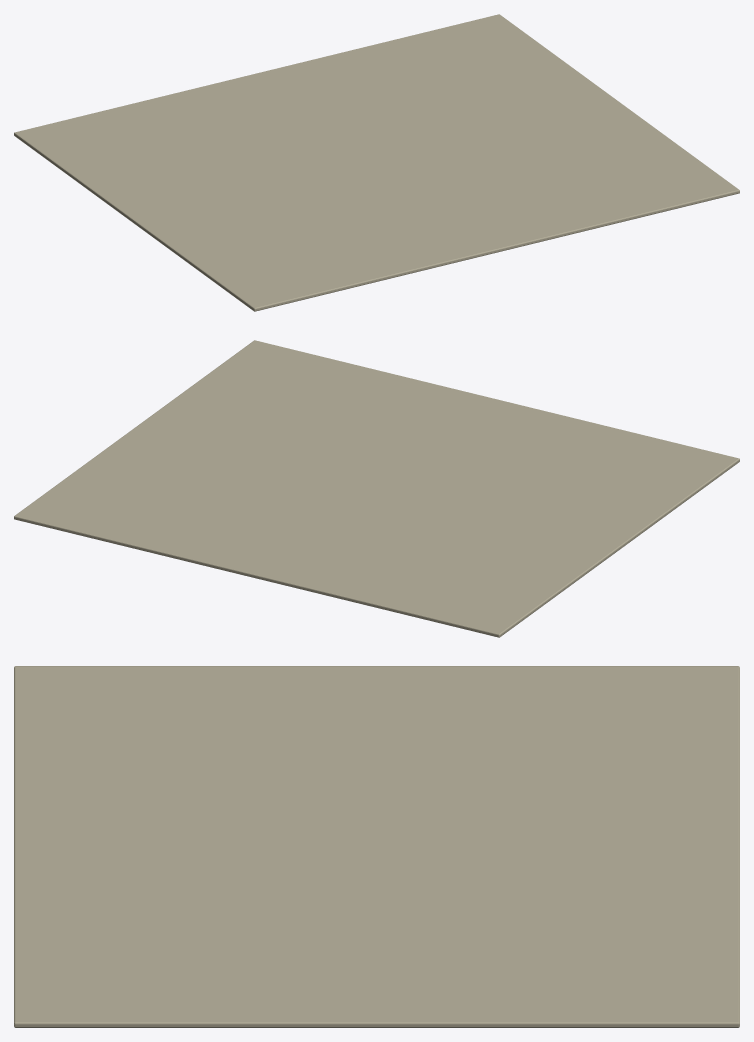
File: presentation_stage.glb
3 views of the same model, one above another, from view 1: azimuth 30°, elevation 25°; view 2: azimuth 150°, elevation 25°; view 3: azimuth 270°, elevation 25° (orthographic). The views are drawn at different scales.
Parts seen in each view (by area): view 1: ThinCutStonePlinth; view 2: ThinCutStonePlinth; view 3: ThinCutStonePlinth.
Part boxes in pixels (box(x1,y1,x2,y2)): ThinCutStonePlinth: box(14, 14, 739, 311); ThinCutStonePlinth: box(14, 340, 739, 637); ThinCutStonePlinth: box(14, 666, 739, 1027).
Size of what is drawn, in the model's own units: 14.12 by 0.1 by 12.12.
